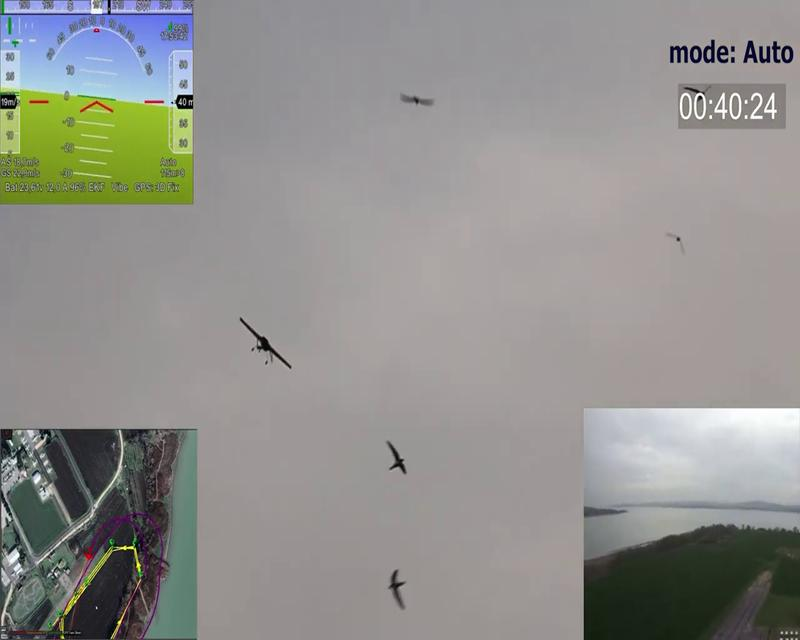UAV: (237, 314, 293, 370)
